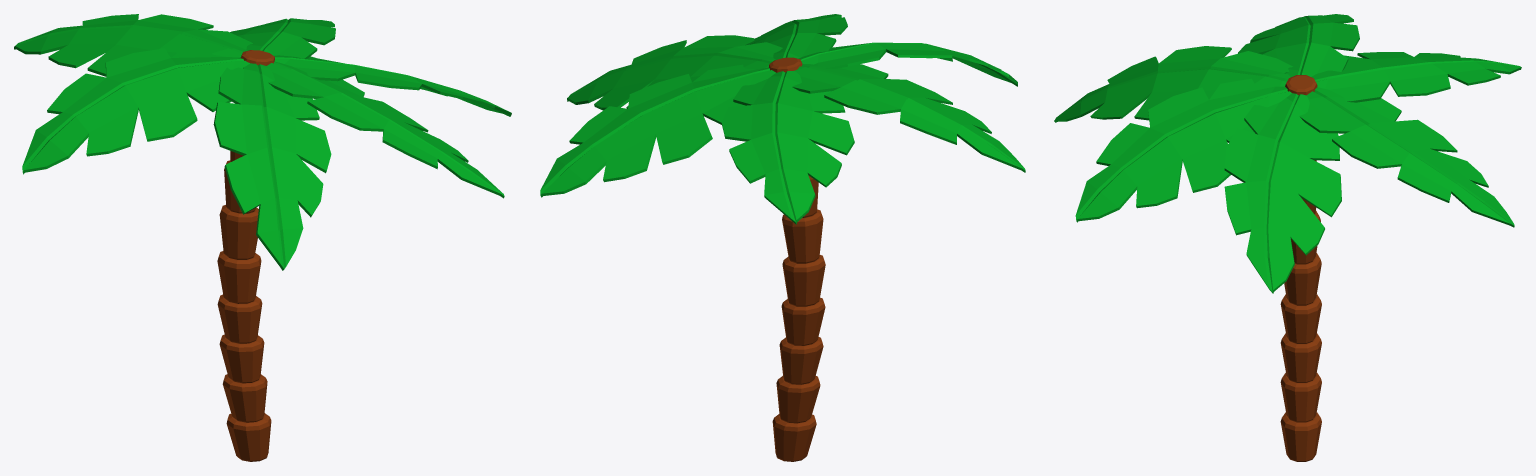
Rendered from palmeracurva.CM.fbx.
3 views of the same model, side by side, from view 1: azimuth 30°, elevation 25°; view 2: azimuth 150°, elevation 25°; view 3: azimuth 270°, elevation 25° (orthographic). The views are drawn at different scales.
Parts seen in each view (by area): view 1: base arbol; view 2: base arbol; view 3: base arbol.
Boxes of the visible parts, box(x1,y1,x2,y2) form: base arbol: box(14, 14, 511, 461); base arbol: box(540, 14, 1025, 461); base arbol: box(1054, 14, 1521, 461).
Size of the model in its own units: 1752 by 1418 by 1576.
